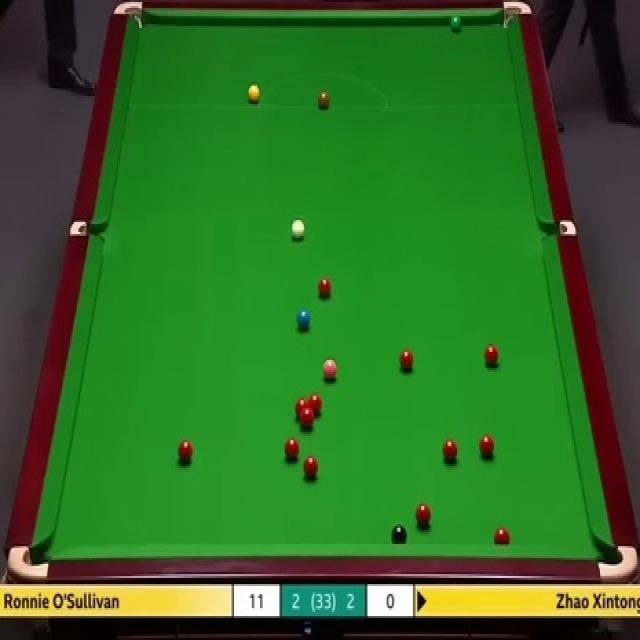black-ball: (392, 523, 408, 545)
blue-ball: (296, 308, 312, 329)
brown-ball: (318, 88, 330, 108)
green-ball: (450, 11, 463, 30)
pink-ball: (322, 359, 339, 384)
red-ball: (173, 440, 196, 465), (303, 451, 320, 480), (442, 438, 460, 464), (398, 346, 415, 373), (415, 504, 432, 530), (281, 439, 301, 461), (479, 434, 496, 458), (316, 276, 333, 298), (484, 344, 498, 369), (294, 398, 308, 422), (309, 393, 322, 418), (493, 526, 511, 543), (300, 411, 316, 430)
white-ball: (290, 220, 308, 240)
yellow-ball: (247, 86, 259, 102)
